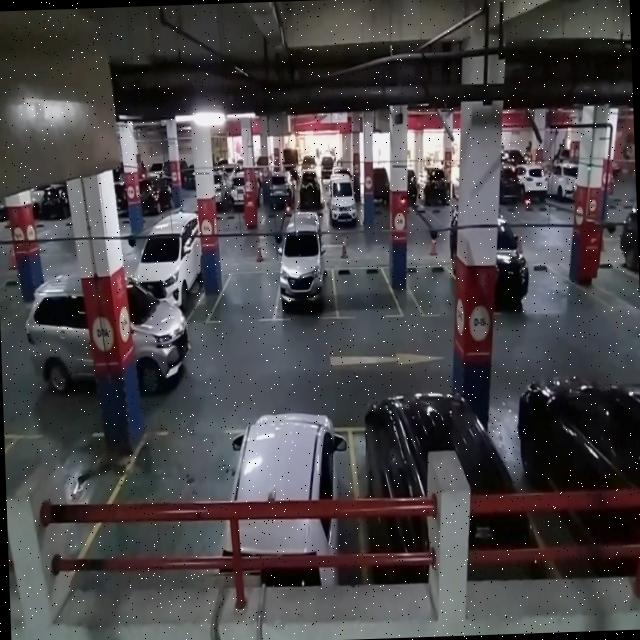empty: (92, 424, 242, 604), (202, 268, 278, 324), (332, 264, 404, 320), (405, 262, 457, 318)
occupied: (349, 398, 523, 592), (227, 406, 361, 593), (131, 222, 203, 328), (271, 222, 338, 322)
